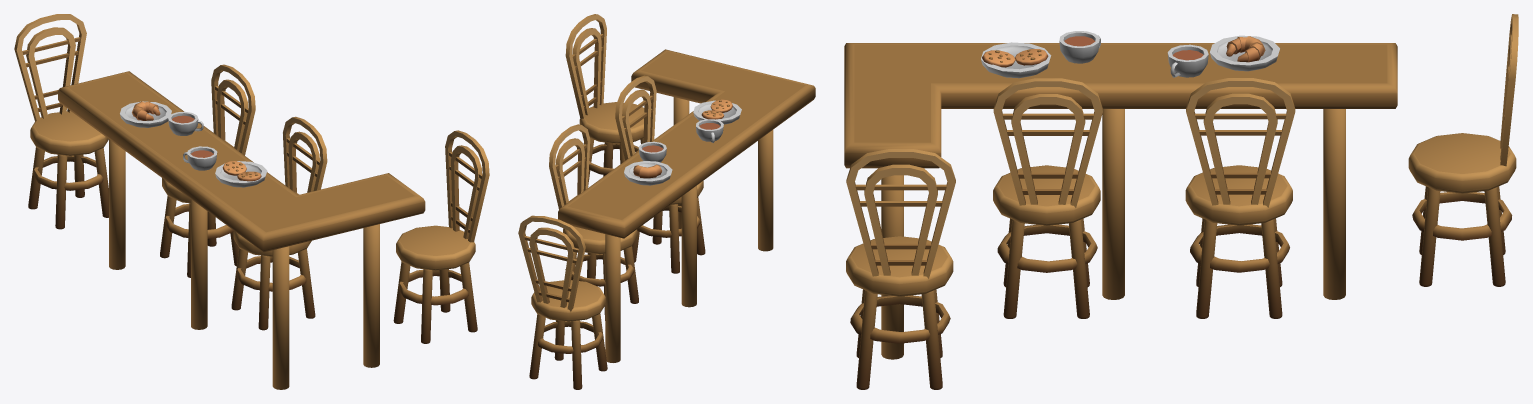
The model's file is Sitzecke.fbx.
3 renders of one model, left to right at view 1: azimuth 30°, elevation 25°; view 2: azimuth 150°, elevation 25°; view 3: azimuth 270°, elevation 25°, orthographic. The views are drawn at different scales.
Parts seen in each view (by area): view 1: Cube.062, Cylinder.066, Cylinder.067, Cylinder.070, Cylinder.069, Cylinder.068, Cylinder.079, Cylinder.080, Cylinder.077, Cylinder.078, Torus.028; view 2: Cube.062, Cylinder.067, Cylinder.066, Cylinder.070, Cylinder.068, Cylinder.069, Cylinder.079, Cylinder.078, Cylinder.080, Cylinder.077, Torus.028; view 3: Cube.062, Cylinder.070, Cylinder.068, Cylinder.069, Cylinder.067, Cylinder.066, Cylinder.079, Cylinder.080, Cylinder.077, Cylinder.078, Torus.028.
Part boxes in pixels (x1=…): Cube.062: x1=58, y1=71, x2=425, y2=252; Cylinder.066: x1=109, y1=139, x2=379, y2=389; Cylinder.067: x1=14, y1=14, x2=108, y2=229; Cylinder.070: x1=393, y1=130, x2=489, y2=343; Cylinder.069: x1=231, y1=116, x2=327, y2=330; Cylinder.068: x1=160, y1=64, x2=255, y2=277; Cylinder.079: x1=120, y1=101, x2=171, y2=127; Cylinder.080: x1=215, y1=161, x2=267, y2=187; Cylinder.077: x1=168, y1=111, x2=203, y2=135; Cylinder.078: x1=183, y1=146, x2=217, y2=170; Torus.028: x1=132, y1=101, x2=160, y2=120; Cube.062: x1=558, y1=49, x2=815, y2=238; Cylinder.067: x1=518, y1=215, x2=607, y2=389; Cylinder.066: x1=605, y1=97, x2=773, y2=362; Cylinder.070: x1=565, y1=14, x2=644, y2=186; Cylinder.068: x1=549, y1=124, x2=638, y2=320; Cylinder.069: x1=615, y1=75, x2=705, y2=273; Cylinder.079: x1=624, y1=161, x2=672, y2=185; Cylinder.078: x1=696, y1=119, x2=723, y2=142; Cylinder.080: x1=693, y1=100, x2=741, y2=124; Cylinder.077: x1=638, y1=141, x2=666, y2=162; Torus.028: x1=633, y1=164, x2=661, y2=178; Cube.062: x1=844, y1=43, x2=1397, y2=168; Cylinder.070: x1=846, y1=149, x2=955, y2=389; Cylinder.068: x1=1185, y1=78, x2=1295, y2=318; Cylinder.069: x1=993, y1=78, x2=1102, y2=318; Cylinder.067: x1=1408, y1=14, x2=1518, y2=286; Cylinder.066: x1=881, y1=109, x2=1345, y2=359; Cylinder.079: x1=1210, y1=35, x2=1280, y2=71; Cylinder.080: x1=981, y1=42, x2=1051, y2=78; Cylinder.077: x1=1167, y1=44, x2=1208, y2=77; Cylinder.078: x1=1059, y1=31, x2=1100, y2=63; Torus.028: x1=1226, y1=36, x2=1265, y2=62.
Size of the model in its own units: 74.85 by 62.74 by 142.
